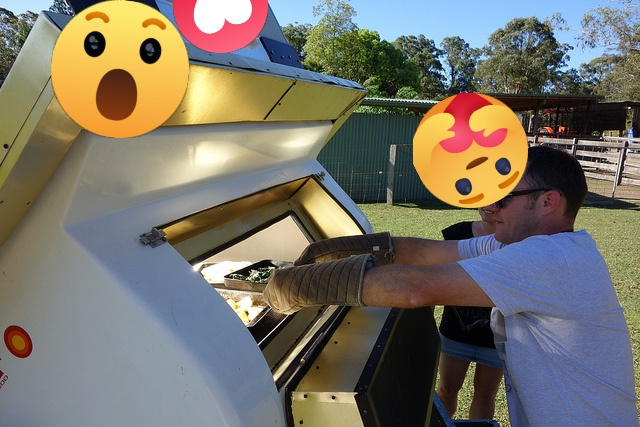care: (413, 93, 528, 208)
love: (173, 0, 268, 53)
wow: (51, 0, 189, 138)
